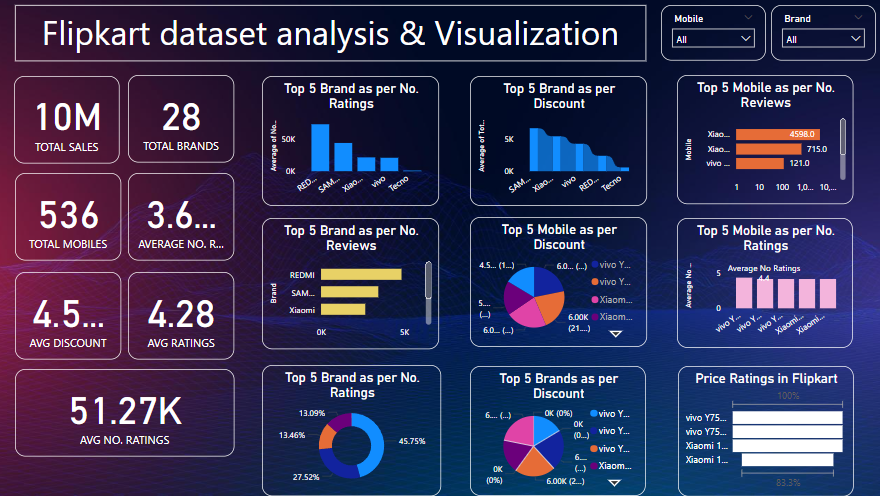

The dashboard page shown, as its layout file describes it:
{"tool":"powerbi","page":{"name":"Page 1","canvas":[1280,720],"ordinal":0},"visuals":[{"type":"textbox","box":[26.9,13.4,908.8,80.6],"z":0},{"type":"card","fields":{"Values":["Flipkart.Total Sales"]},"box":[26.1,114.5,152.2,126.1],"z":1000},{"type":"card","fields":{"Values":["Flipkart.Average No Ratings"]},"box":[189.8,398.1,152.9,126],"z":2000},{"type":"card","fields":{"Values":["Flipkart.Total Brands"]},"box":[189.8,114.2,152.9,126],"z":3000},{"type":"card","fields":{"Values":["Avg(Flipkart.Total Discount)"]},"box":[26.9,398.1,152.9,126],"z":4000},{"type":"card","fields":{"Values":["Flipkart.Average No of Reviews"]},"box":[189.8,255.3,152.9,126],"z":5000},{"type":"card","fields":{"Values":["Flipkart.Total Mobiles"]},"box":[26.9,255.3,152.9,126],"z":6000},{"type":"card","fields":{"Values":["Flipkart.Average of No.of Ratings"]},"box":[26.9,537.5,315.8,126],"z":7000},{"type":"columnChart","title":"Top 5 Brand as per  No. Ratings","fields":{"Y":["Avg(Flipkart.No of Ratings)"],"Category":["Flipkart.Brand"]},"box":[383,115.2,254.9,187.2],"z":8000},{"type":"clusteredBarChart","title":"Top 5 Brand as per  No. Reviews","fields":{"Category":["Flipkart.Brand"],"Y":["Avg(Flipkart.No of Reviews)"]},"box":[383,319.7,254.9,188.6],"z":9000},{"type":"donutChart","title":"Top 5 Brand as per  No. Ratings","fields":{"Category":["Flipkart.Brand"],"Y":["Avg(Flipkart.No of Ratings)"]},"box":[383,531.4,257.8,188.6],"z":10000},{"type":"ribbonChart","title":"Top 5 Brand as per Discount","fields":{"Y":["Avg(Flipkart.Total Discount)"],"Category":["Flipkart.Brand"]},"box":[682.6,115.2,254.9,187.2],"z":11000},{"type":"pieChart","title":"Top 5 Mobile as per Discount","fields":{"Category":["Flipkart.Mobile"],"Y":["Avg(Flipkart.Total Discount)"]},"box":[682.6,318.2,254.9,187.2],"z":12000},{"type":"pieChart","title":"Top 5 Brands as per Discount","fields":{"Category":["Flipkart.Mobile"],"Y":["Flipkart.Total Brands","Avg(Flipkart.Total Discount)"]},"box":[682.6,532.8,253.4,187.2],"z":13000},{"type":"columnChart","title":"Top 5 Mobile as per No. Ratings","fields":{"Category":["Flipkart.Mobile"],"Y":["Flipkart.Average No Ratings"]},"box":[980.6,319.7,253.4,187.2],"z":14000},{"type":"clusteredBarChart","title":"Top 5 Mobile as per No. Reviews","fields":{"Category":["Flipkart.Mobile"],"Y":["Flipkart.Average No of Reviews"]},"box":[981,114.2,253.6,186.5],"z":15000},{"type":"slicer","fields":{"Values":["Flipkart.Mobile"]},"box":[957.3,13.5,151,80.2],"z":16000},{"type":"slicer","fields":{"Values":["Flipkart.Brand"]},"box":[1116.7,13.5,151,80.2],"z":17000},{"type":"funnel","title":"Price Ratings in Flipkart","fields":{"Category":["Flipkart.Mobile"],"Y":["Sum(Flipkart.Total Discount)"]},"box":[982.3,532.3,253.1,187.5],"z":18000}]}

Visuals, with their boxes in screenshot pixels (x1, y1, x2, y2), scaled from the page's 1280x720 canvas onto the 880x496 screenshot:
textbox: Rect(18, 9, 643, 65)
card - Flipkart.Total Sales: Rect(18, 79, 123, 166)
card - Flipkart.Average No Ratings: Rect(130, 274, 236, 361)
card - Flipkart.Total Brands: Rect(130, 79, 236, 165)
card - Avg(Flipkart.Total Discount): Rect(18, 274, 124, 361)
card - Flipkart.Average No of Reviews: Rect(130, 176, 236, 263)
card - Flipkart.Total Mobiles: Rect(18, 176, 124, 263)
card - Flipkart.Average of No.of Ratings: Rect(18, 370, 236, 457)
"Top 5 Brand as per  No. Ratings" columnChart: Rect(263, 79, 439, 208)
"Top 5 Brand as per  No. Reviews" clusteredBarChart: Rect(263, 220, 439, 350)
"Top 5 Brand as per  No. Ratings" donutChart: Rect(263, 366, 441, 495)
"Top 5 Brand as per Discount" ribbonChart: Rect(469, 79, 645, 208)
"Top 5 Mobile as per Discount" pieChart: Rect(469, 219, 645, 348)
"Top 5 Brands as per Discount" pieChart: Rect(469, 367, 644, 495)
"Top 5 Mobile as per No. Ratings" columnChart: Rect(674, 220, 848, 349)
"Top 5 Mobile as per No. Reviews" clusteredBarChart: Rect(674, 79, 849, 207)
slicer - Flipkart.Mobile: Rect(658, 9, 762, 65)
slicer - Flipkart.Brand: Rect(768, 9, 872, 65)
"Price Ratings in Flipkart" funnel: Rect(675, 367, 849, 495)
